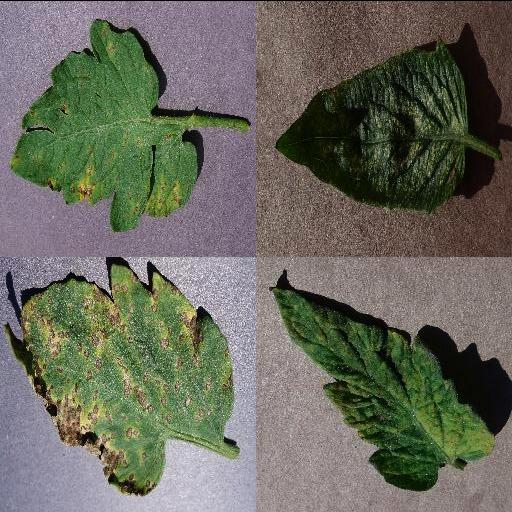Leaf Mold: (268, 285, 498, 492)
Septoria: (4, 262, 236, 492), (9, 17, 199, 233)
Spider Mites: (275, 40, 469, 210)
